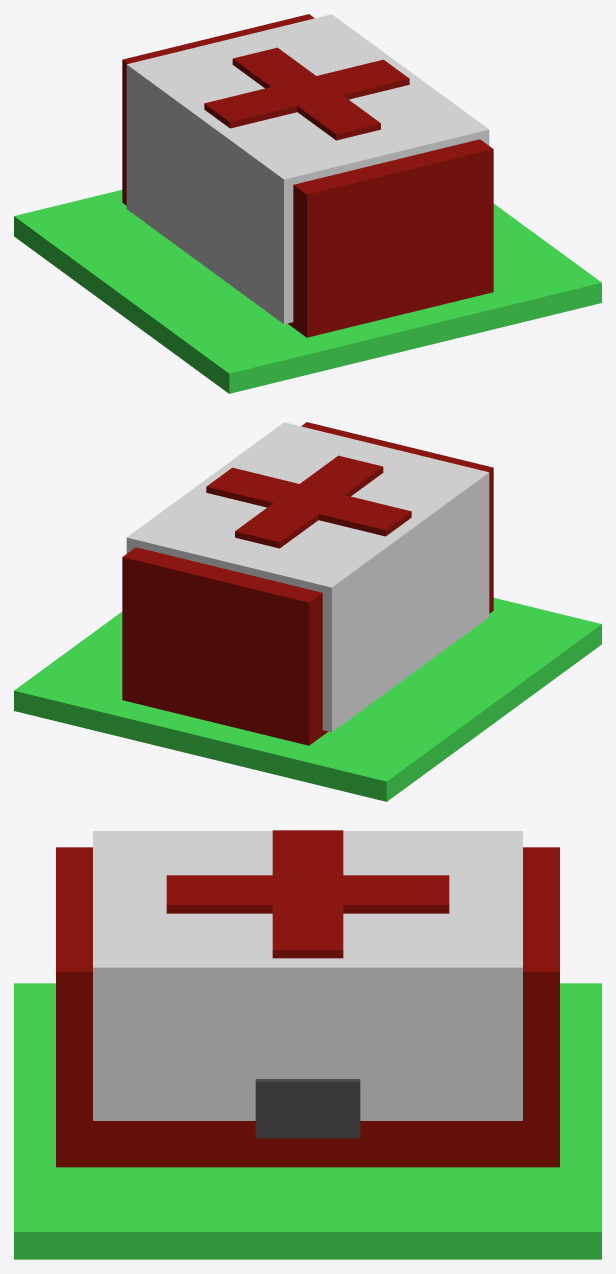
File: Medical.fbx
The picture shows the model from 3 angles, top to bottom: view 1: azimuth 30°, elevation 25°; view 2: azimuth 150°, elevation 25°; view 3: azimuth 270°, elevation 25°; orthographic projection. The views are drawn at different scales.
Visible parts, largest first — view 1: Cube.001, Cube.004, Cube, Cube.003; view 2: Cube.001, Cube.004, Cube, Cube.003; view 3: Cube.001, Cube.004, Cube, Cube.003, Cube.002.
Boxes of the visible parts, <box> form: Cube.001: <box>126,14,489,324</box>; Cube.004: <box>14,190,601,393</box>; Cube: <box>122,14,493,337</box>; Cube.003: <box>204,47,409,140</box>; Cube.001: <box>126,422,489,732</box>; Cube.004: <box>14,598,601,801</box>; Cube: <box>122,422,493,745</box>; Cube.003: <box>206,455,411,548</box>; Cube.001: <box>93,831,522,1120</box>; Cube.004: <box>14,983,601,1259</box>; Cube: <box>56,847,559,1167</box>; Cube.003: <box>166,830,449,958</box>; Cube.002: <box>255,1079,360,1138</box>.
Bounding box in the file's own units: 233 × 107 × 233.
